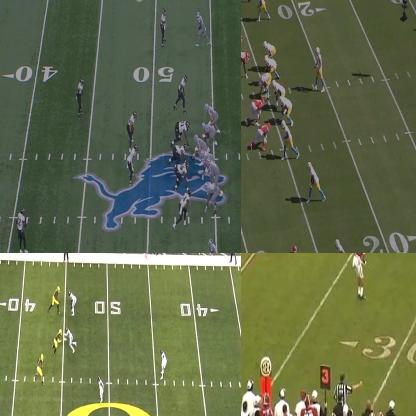CENTER: (192, 135, 205, 164), (258, 72, 272, 92)
DB: (352, 253, 369, 301), (16, 207, 30, 252), (66, 327, 78, 353), (159, 8, 167, 46), (78, 78, 85, 117), (68, 292, 78, 315), (96, 376, 104, 401), (161, 348, 166, 376)
LB: (176, 73, 188, 112), (177, 191, 189, 222), (127, 149, 137, 180), (130, 112, 138, 145)
QB: (316, 46, 323, 89)
SKILL: (307, 164, 321, 201), (204, 182, 220, 210), (282, 120, 294, 152), (196, 11, 207, 44), (50, 286, 62, 312), (208, 236, 223, 252), (255, 0, 267, 20), (36, 354, 44, 382), (334, 241, 353, 252), (55, 328, 62, 352)
